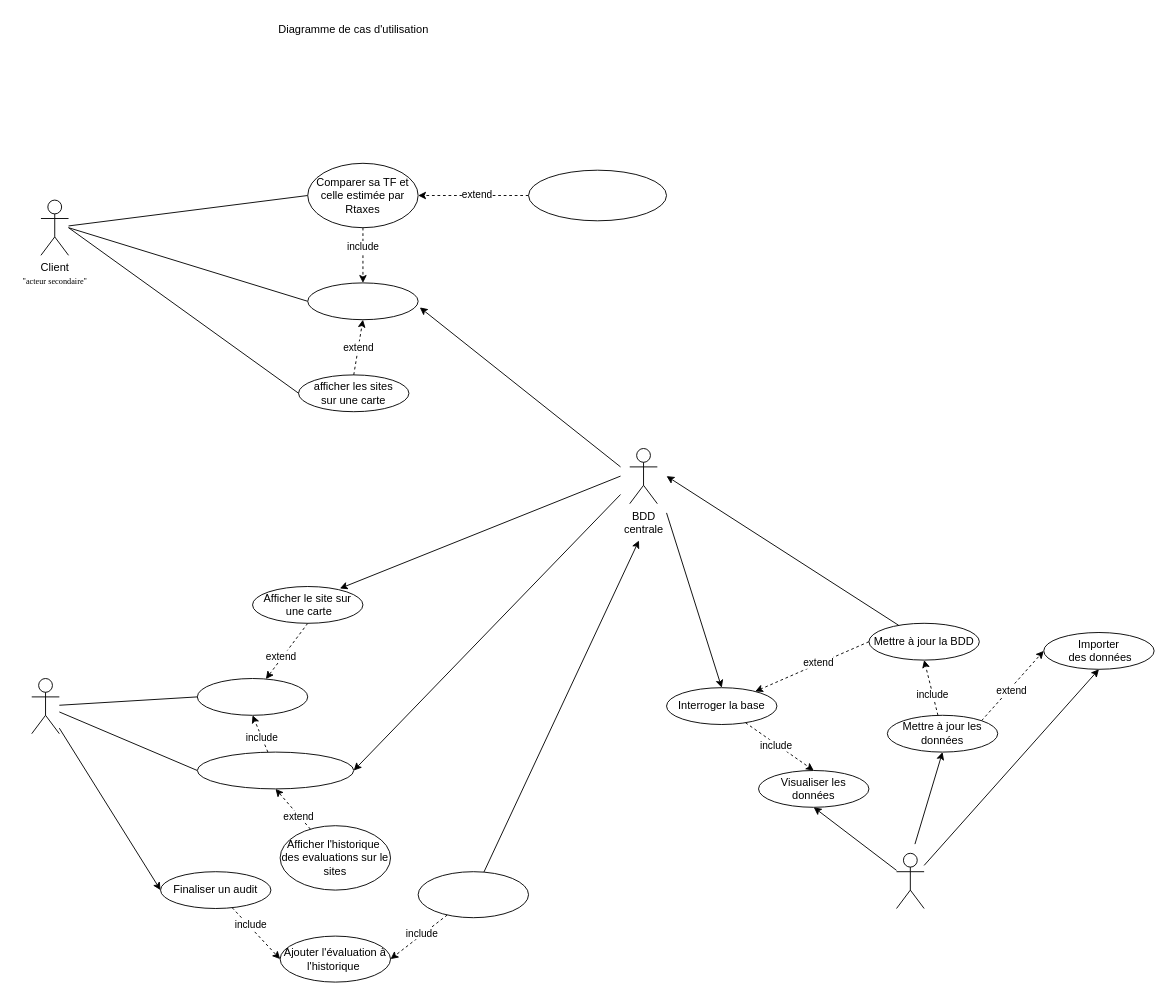
The diagram is 1170 pixels wide and 998 high, and some of its shapes have lost their labels. Here are the shapes that lost their labels. From the top down, the centre of each, then its label:
(x=597, y=195): Visualiser les valeurs TF calculé
(x=362, y=301): Acceder à ses audits
(x=45, y=706): Auditeur "acteur principal"
(x=252, y=696): Auditer un site
(x=275, y=770): Récuperer les anciennes évaluations du site
(x=473, y=894): Mettre à jour le site
(x=910, y=880): Administrateur BDD "acteur secondaire"
